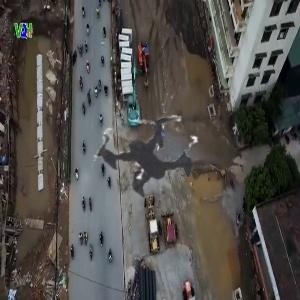drone: (12, 16, 284, 288)
